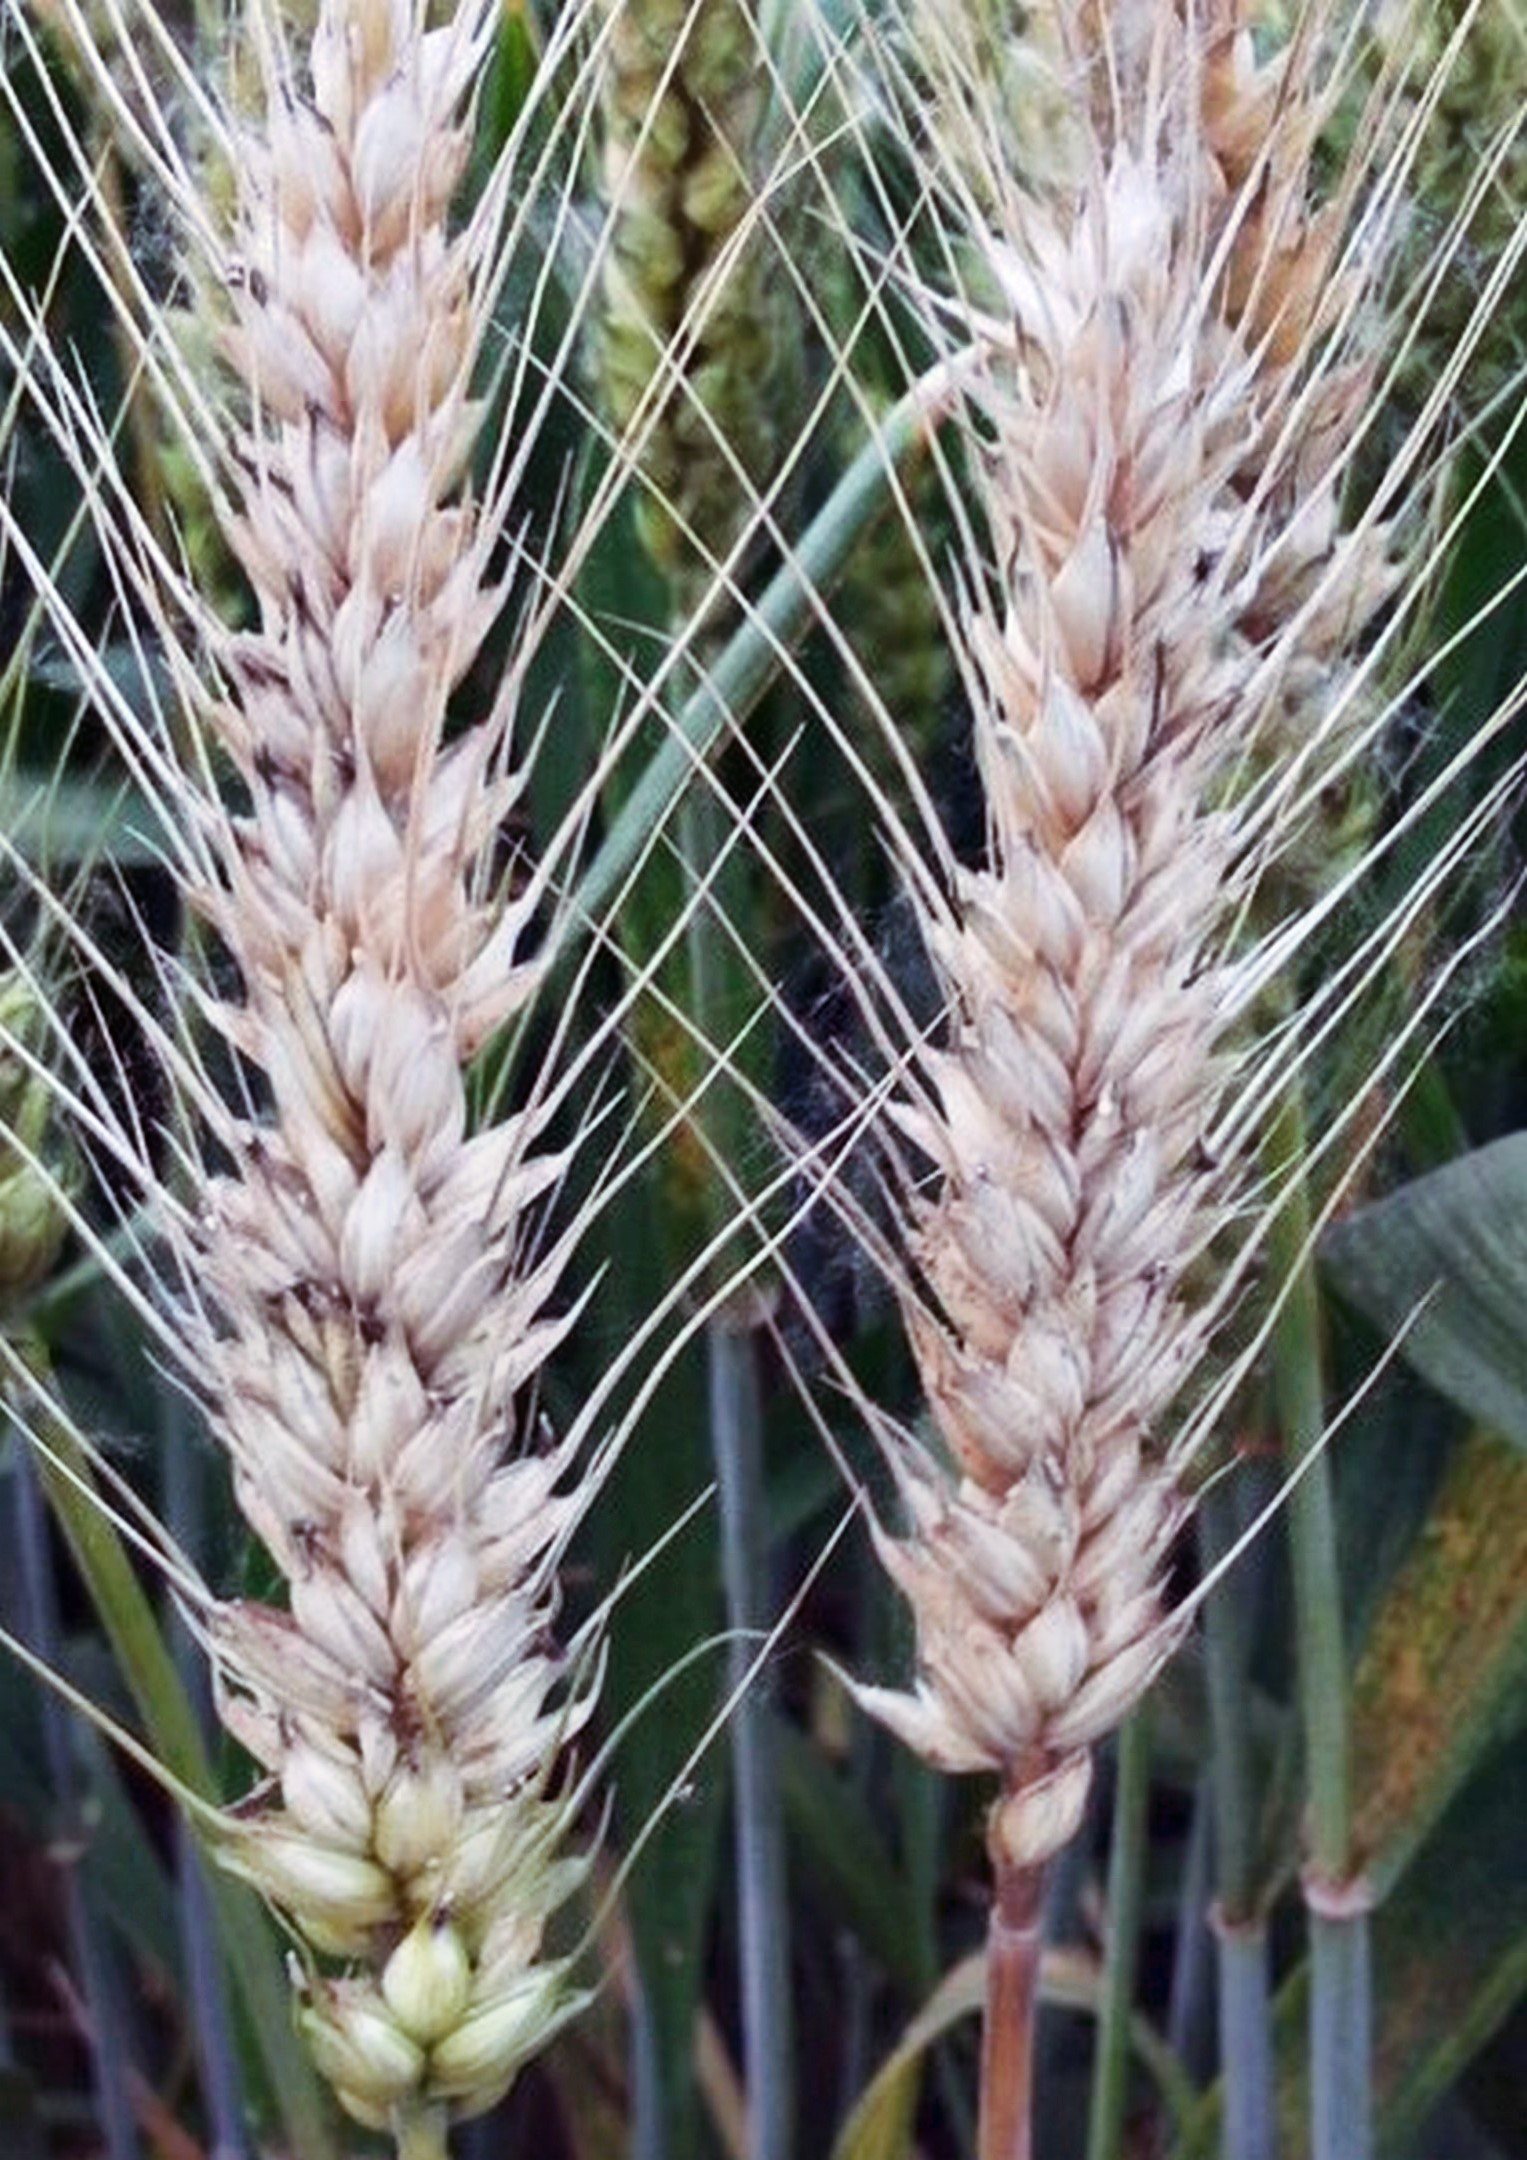Wheat scab: (849, 147, 1277, 1897), (144, 960, 659, 2160)
